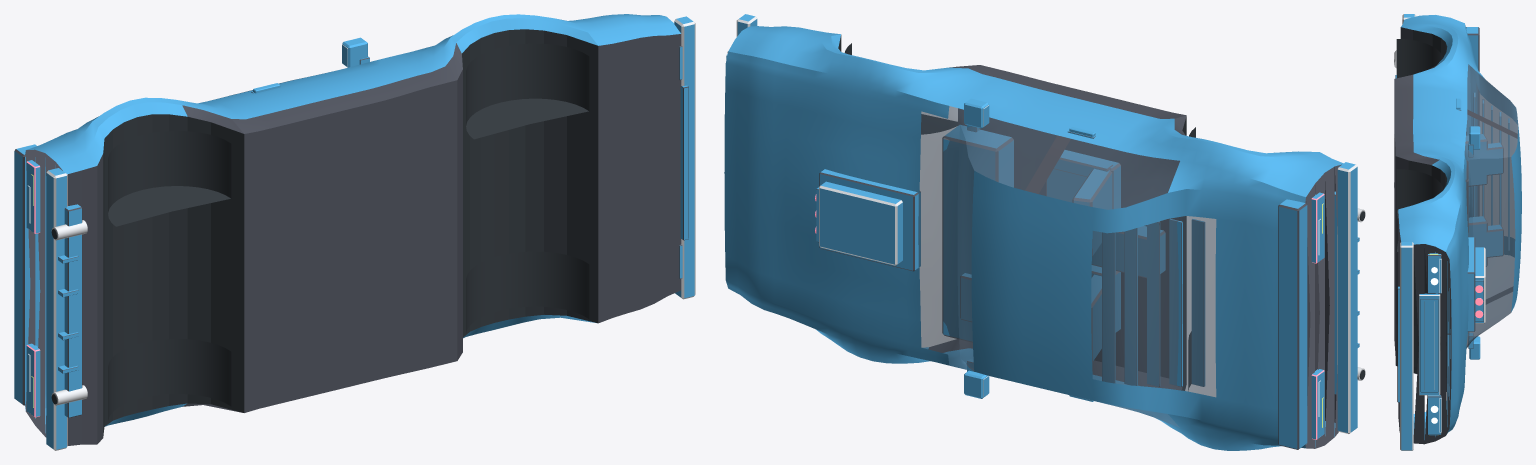
The model's file is bruckell_muscle.glb.
3 views of the same model, side by side, from view 1: azimuth 30°, elevation 25°; view 2: azimuth 150°, elevation 25°; view 3: azimuth 270°, elevation 25° (orthographic). The views are drawn at different scales.
Parts seen in each view (by area): view 1: Bruckell_V8_Muscle; view 2: Bruckell_V8_Muscle; view 3: Bruckell_V8_Muscle.
Boxes of the visible parts, <box> form: Bruckell_V8_Muscle: <box>14,14,695,450</box>; Bruckell_V8_Muscle: <box>724,14,1365,450</box>; Bruckell_V8_Muscle: <box>1394,14,1521,450</box>.
Bounding box in the file's own units: 4.4 × 2.08 × 1.02.
